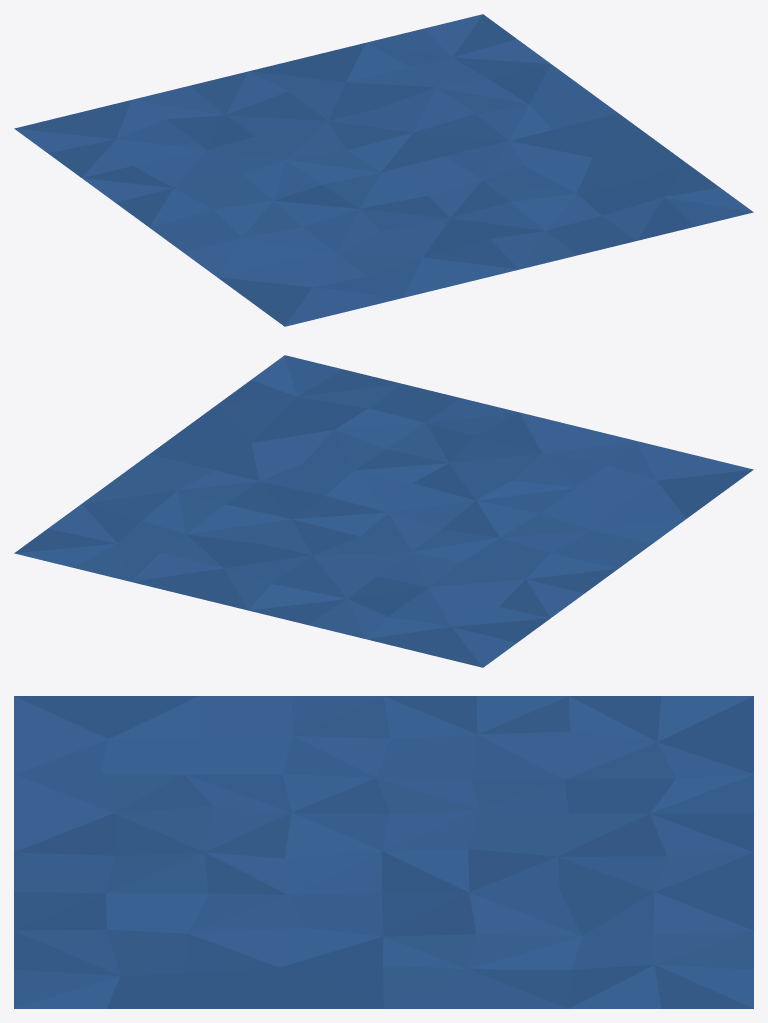
The model's file is ground_shallow_water_c.glb.
3 renders of one model, top to bottom at view 1: azimuth 30°, elevation 25°; view 2: azimuth 150°, elevation 25°; view 3: azimuth 270°, elevation 25°, orthographic. The views are drawn at different scales.
Visible parts, largest first — view 1: ground_shallow_water_c; view 2: ground_shallow_water_c; view 3: ground_shallow_water_c.
Part boxes in pixels (x1,y1,x2,y2): ground_shallow_water_c: (14,14,753,326); ground_shallow_water_c: (14,355,753,667); ground_shallow_water_c: (14,696,753,1008).
Bounding box in the file's own units: 4 × 0.0233 × 4.
